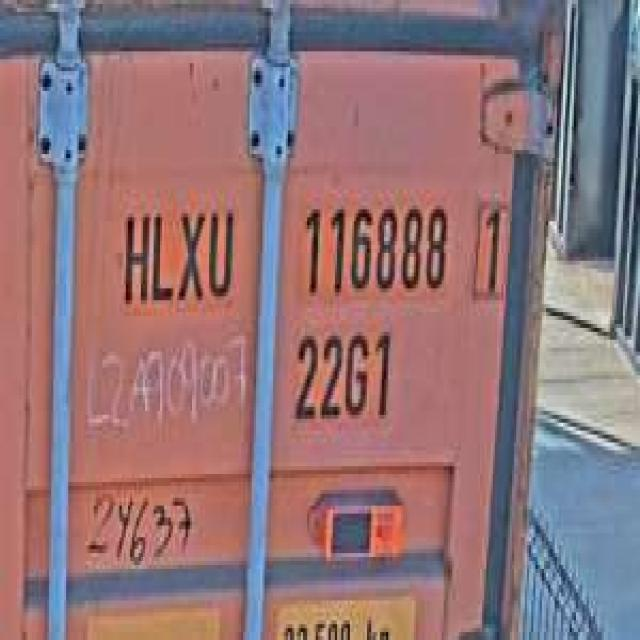dv: (467, 190, 510, 308)
owner: (117, 190, 239, 312)
serial: (297, 190, 452, 304)
size: (288, 320, 395, 431)
